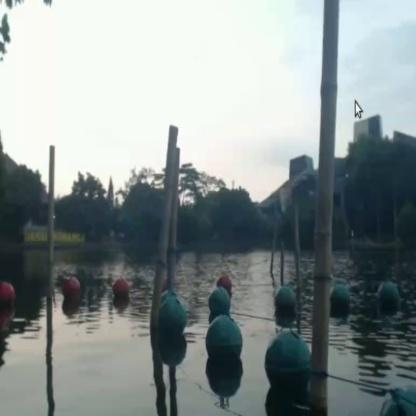green_buoy: (266, 332, 310, 394), (206, 313, 242, 371), (382, 375, 415, 415), (159, 298, 185, 336), (378, 280, 398, 315), (275, 286, 296, 318), (208, 288, 228, 316), (329, 284, 345, 312)
red_buoy: (1, 280, 15, 318), (112, 279, 127, 301), (48, 277, 58, 304), (218, 270, 232, 288)
